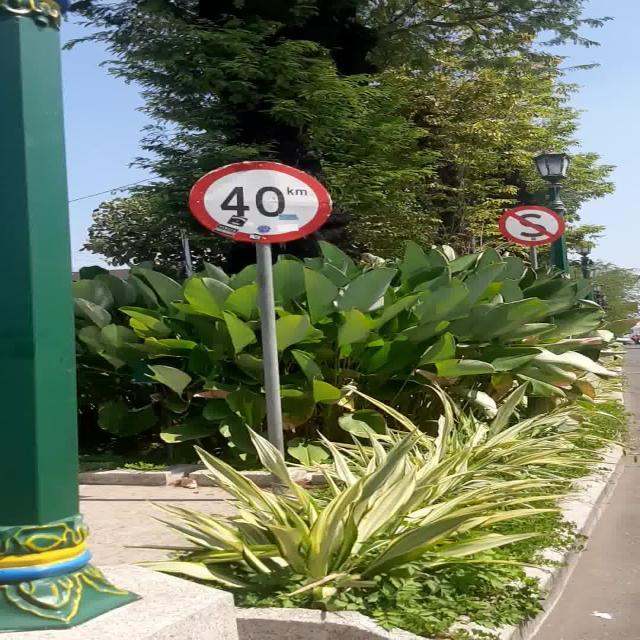Kecepatan Maks. 40 km: (187, 160, 332, 244)
